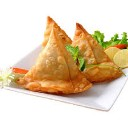samosa: (20, 28, 93, 91), (73, 21, 123, 79)
